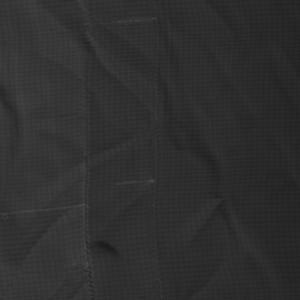Stain: (88, 238, 126, 261)
Wrinkle: (131, 5, 300, 300), (38, 1, 114, 82), (1, 80, 29, 177)
